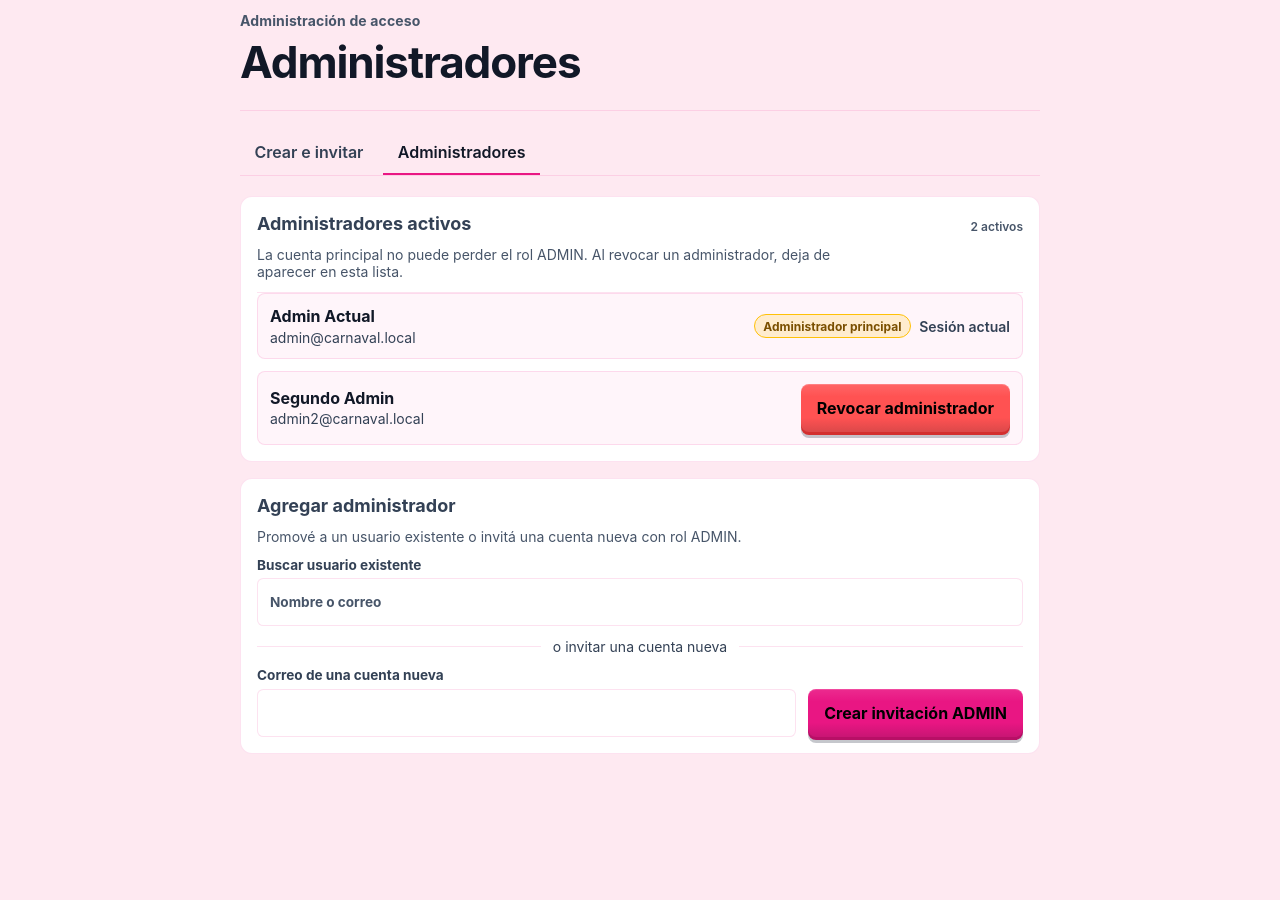
Test: AdminUsersPage › después de revocar, el usuario vuelve a aparecer en la búsqueda para poder promoverlo otra vez
Click the button "Revocar administrador": {"x": 905, "y": 408} [801,384,1010,432]
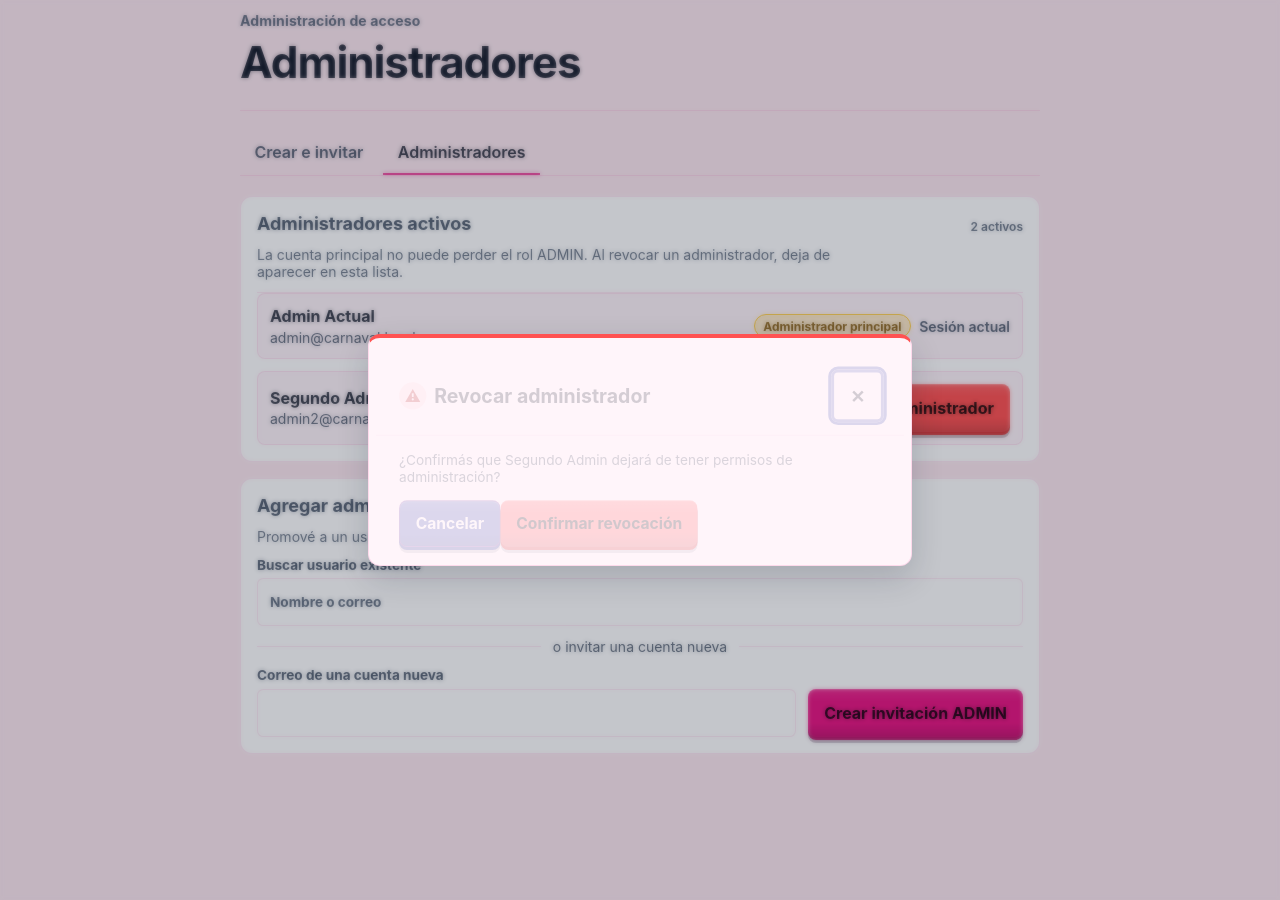
Click the button "Confirmar revocación": {"x": 599, "y": 524} [501,500,698,547]
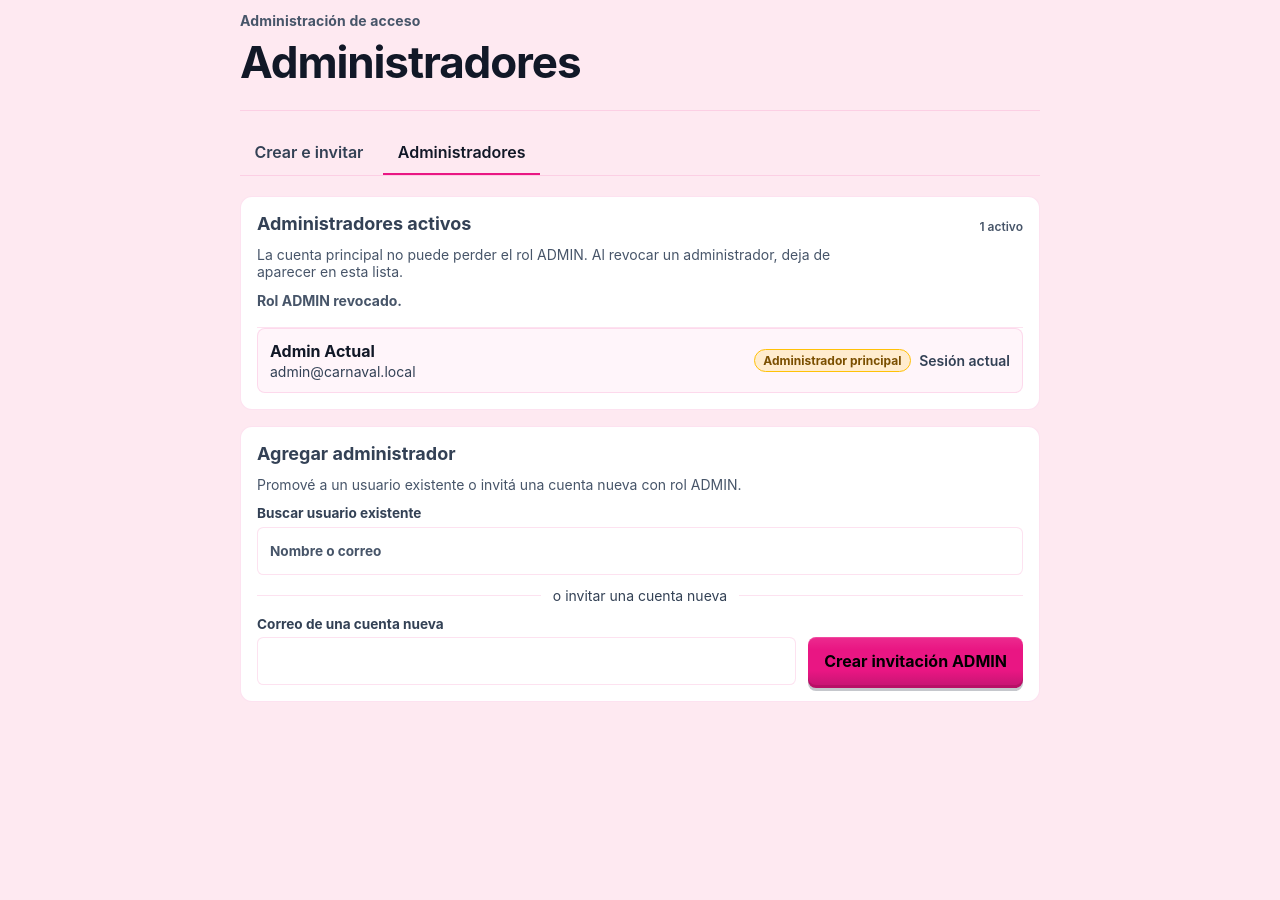
Check: the text "Rol ADMIN revocado." is shown, box [257,292,402,309]
In the search field labelled "Buscar usuario existente": {"x": 640, "y": 551} [257,527,1023,575], type "segundo"
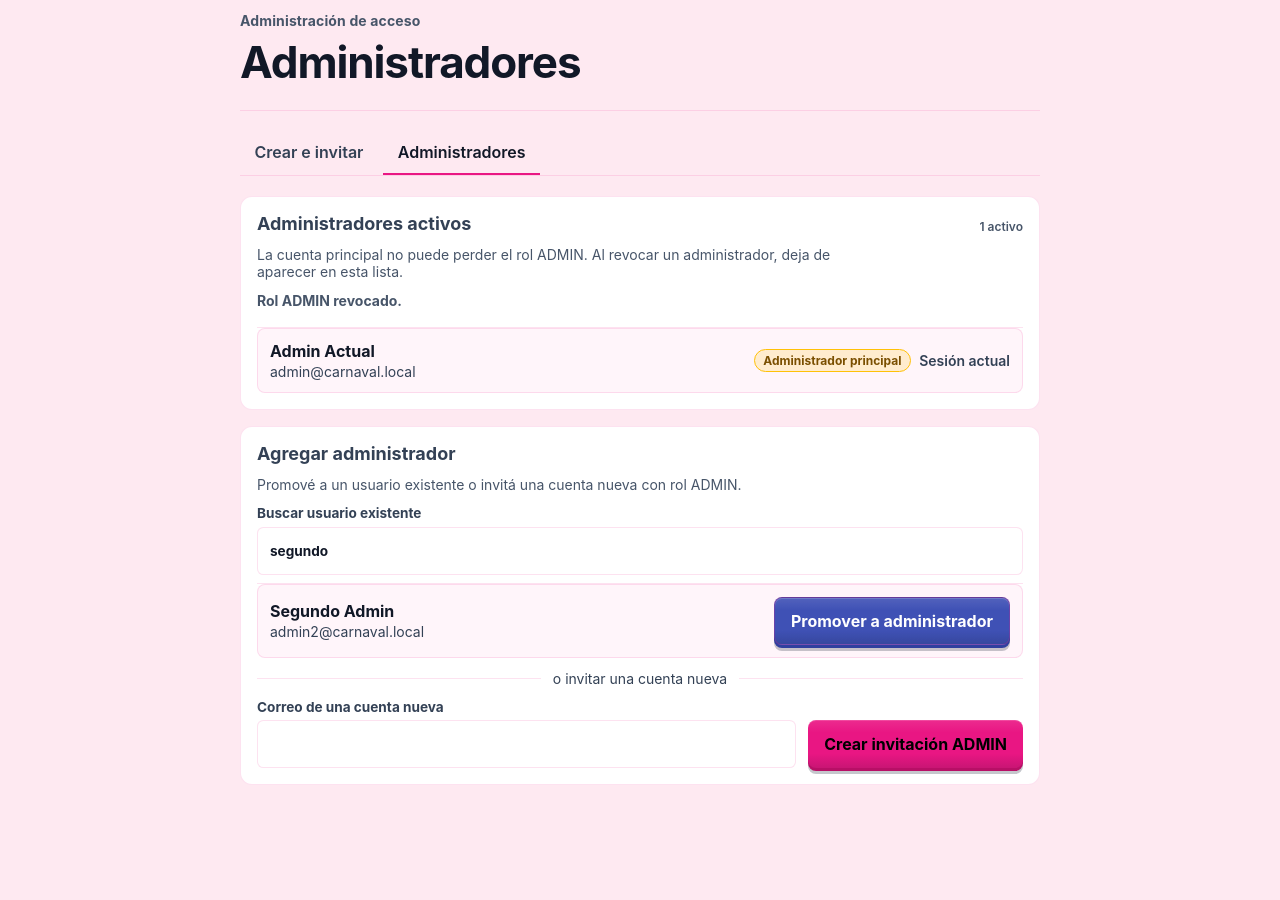
Check: the text "Segundo Admin" is shown, box [270,601,394,621]
